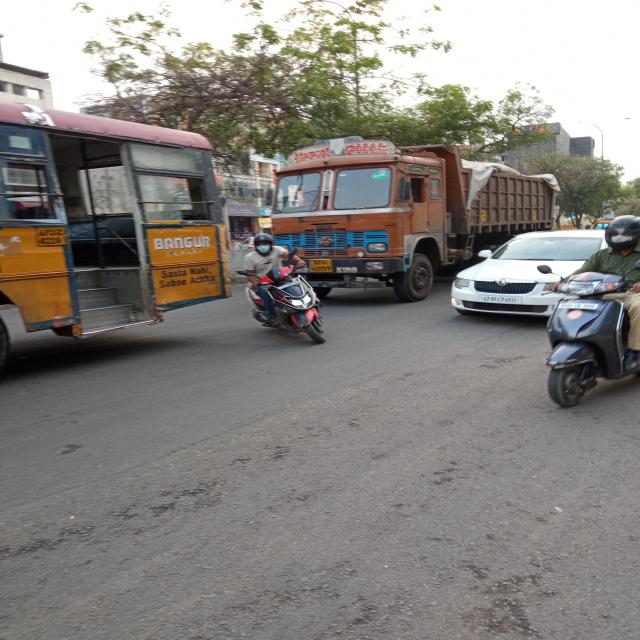Bus: (0, 87, 236, 347)
truck: (273, 150, 451, 258)
